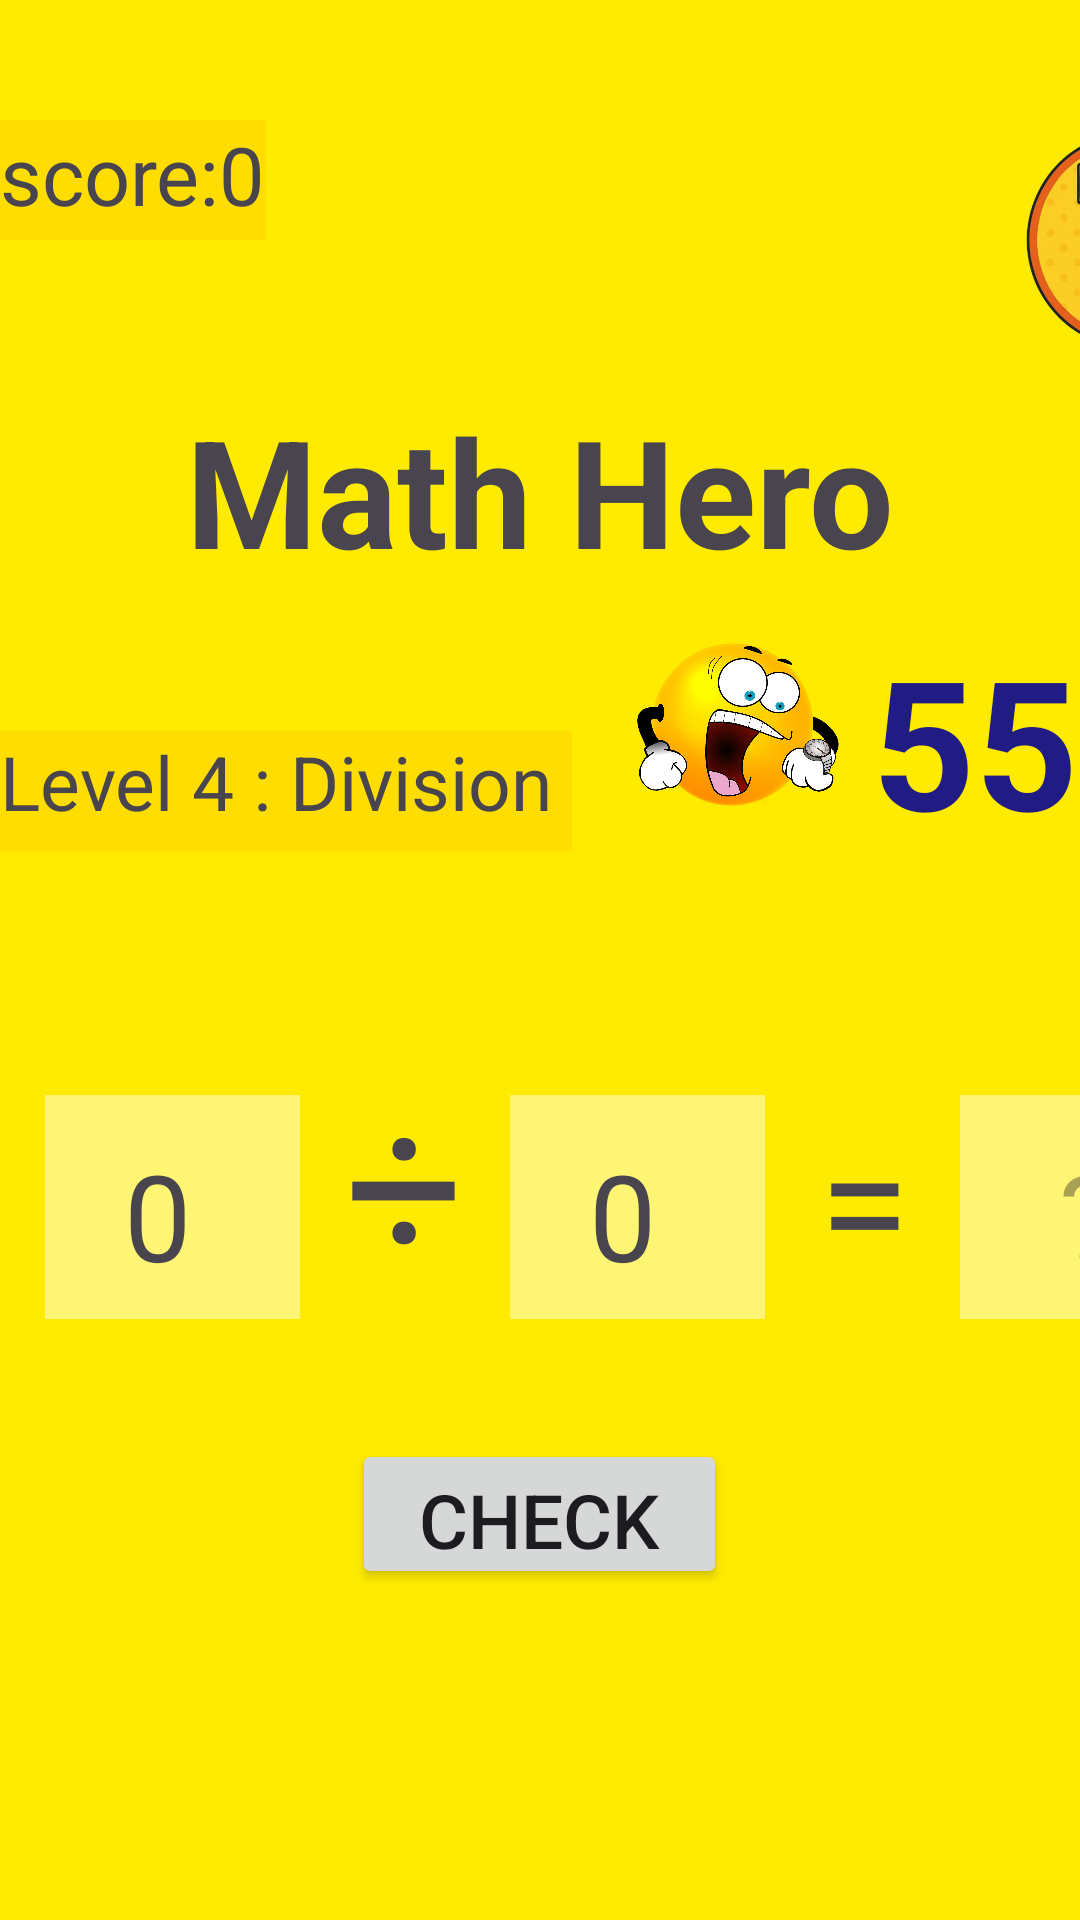

Named icons in this screenshot (1080 × 1920) and their centers, (x=x, y=y):
timeout: (x=738, y=725)
